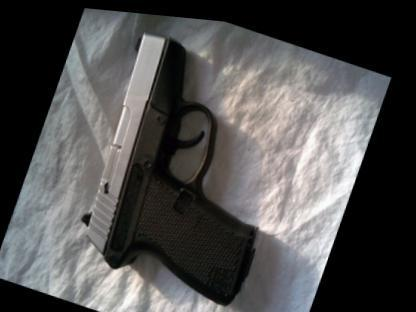pistol: (63, 19, 317, 306)
